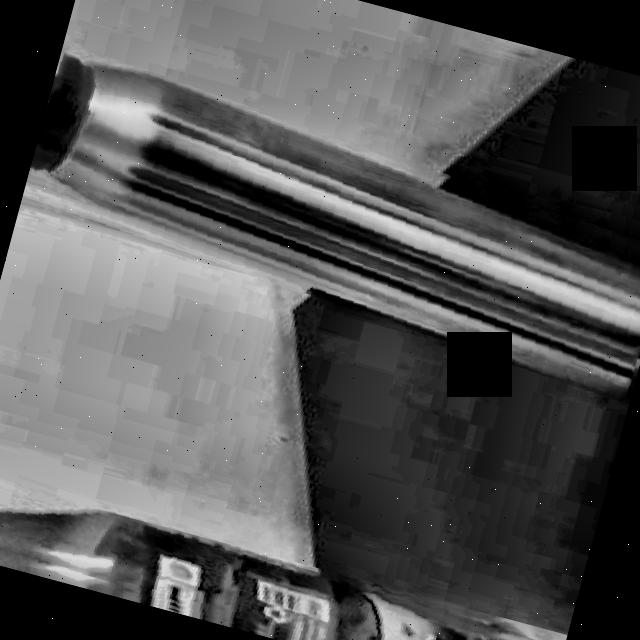bottle: (29, 50, 640, 401), (0, 505, 533, 640)
